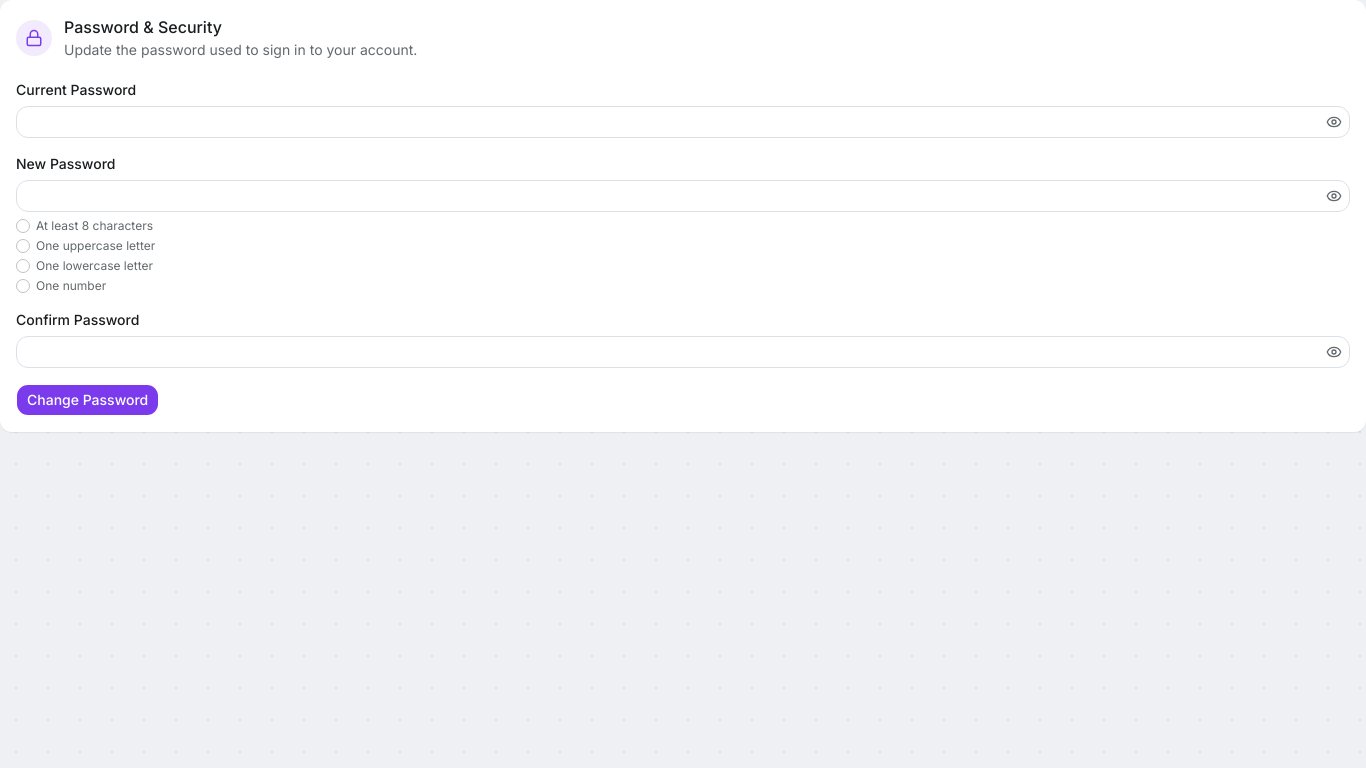
ChangePasswordForm › shows a specific message when the API rejects the current password as incorrect
Type "wrong-current" into the password field labelled "Current Password" at x=683, y=122, box 16,106 -> 1350,138
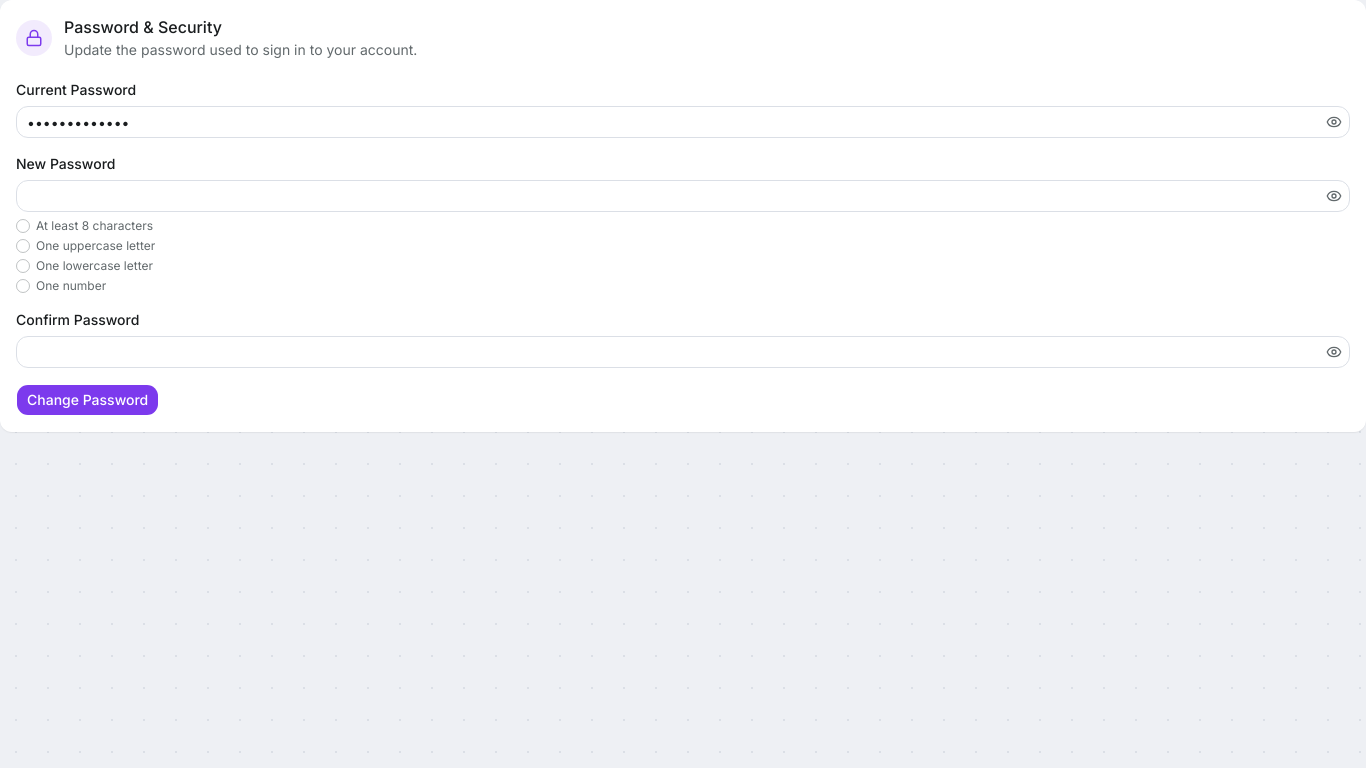
Type "Newpassword1" into the password field labelled "New Password" at x=683, y=196, box 16,180 -> 1350,212
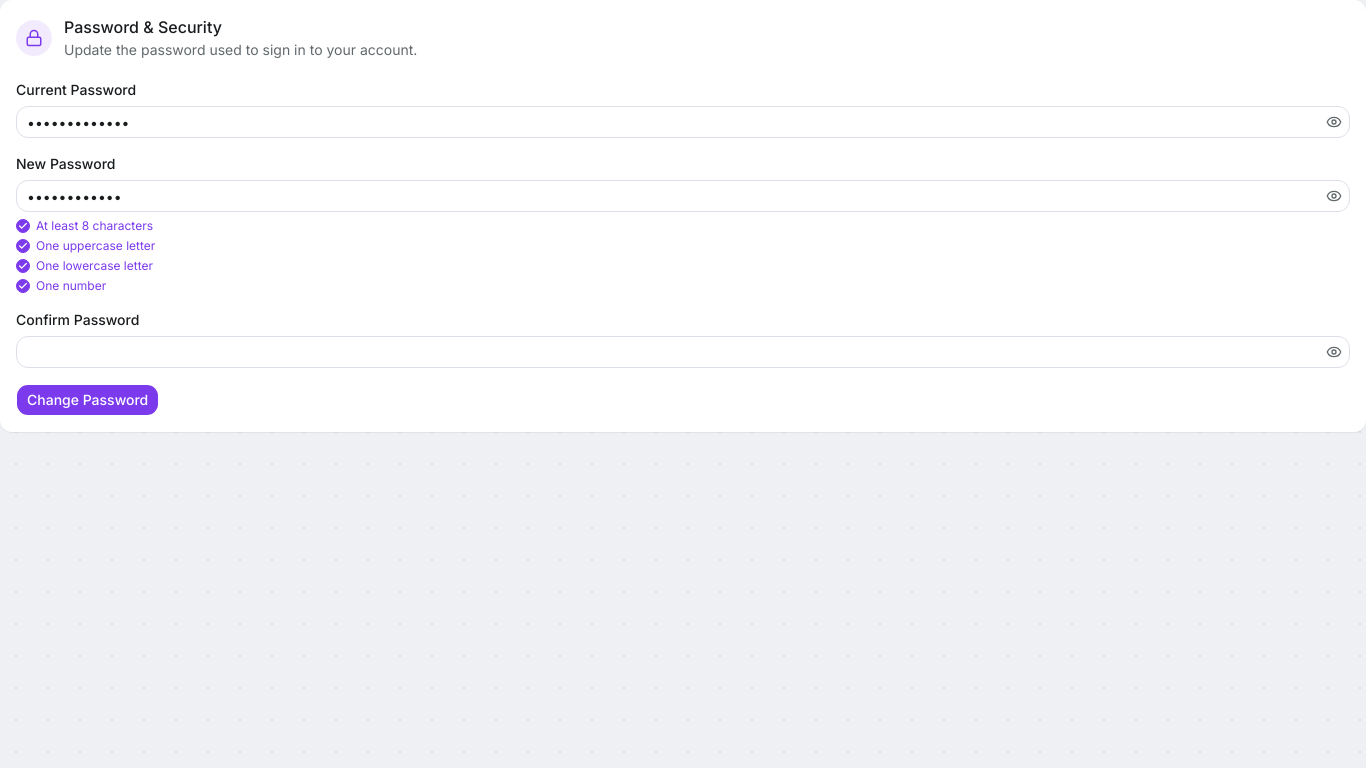
Type "Newpassword1" into the password field labelled "Confirm Password" at x=683, y=352, box 16,336 -> 1350,368
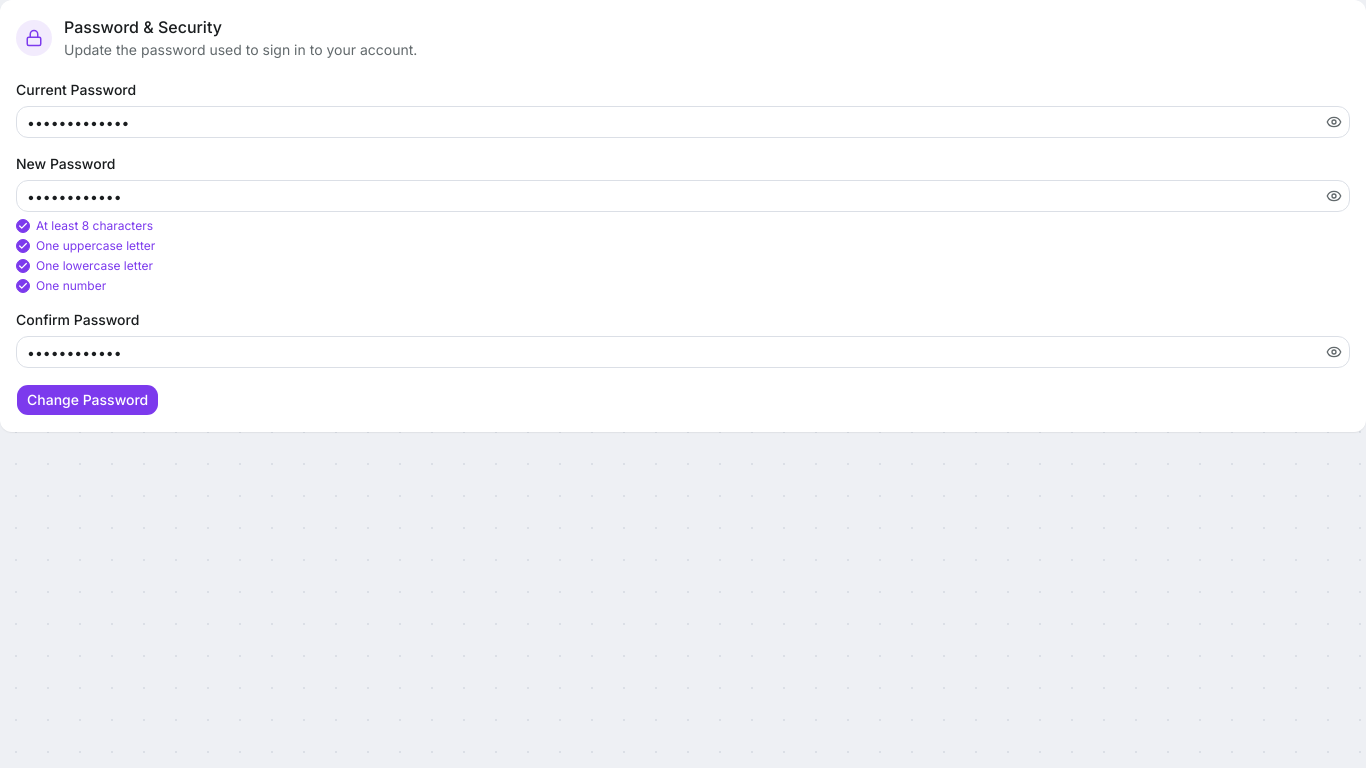
Click the button "Change Password" at x=88, y=400, box 16,384 -> 159,416
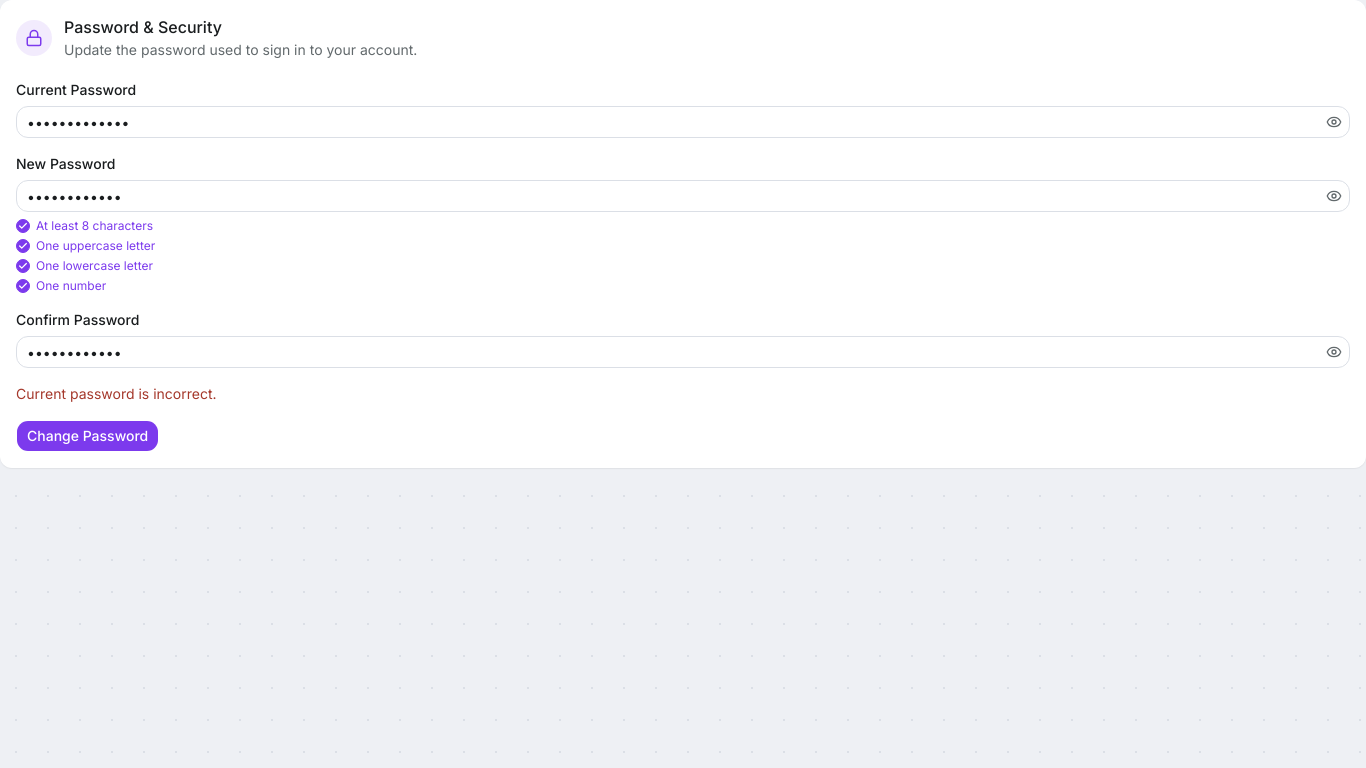
Check: the text "Current password is incorrect." is shown, box 16,385 -> 217,402
